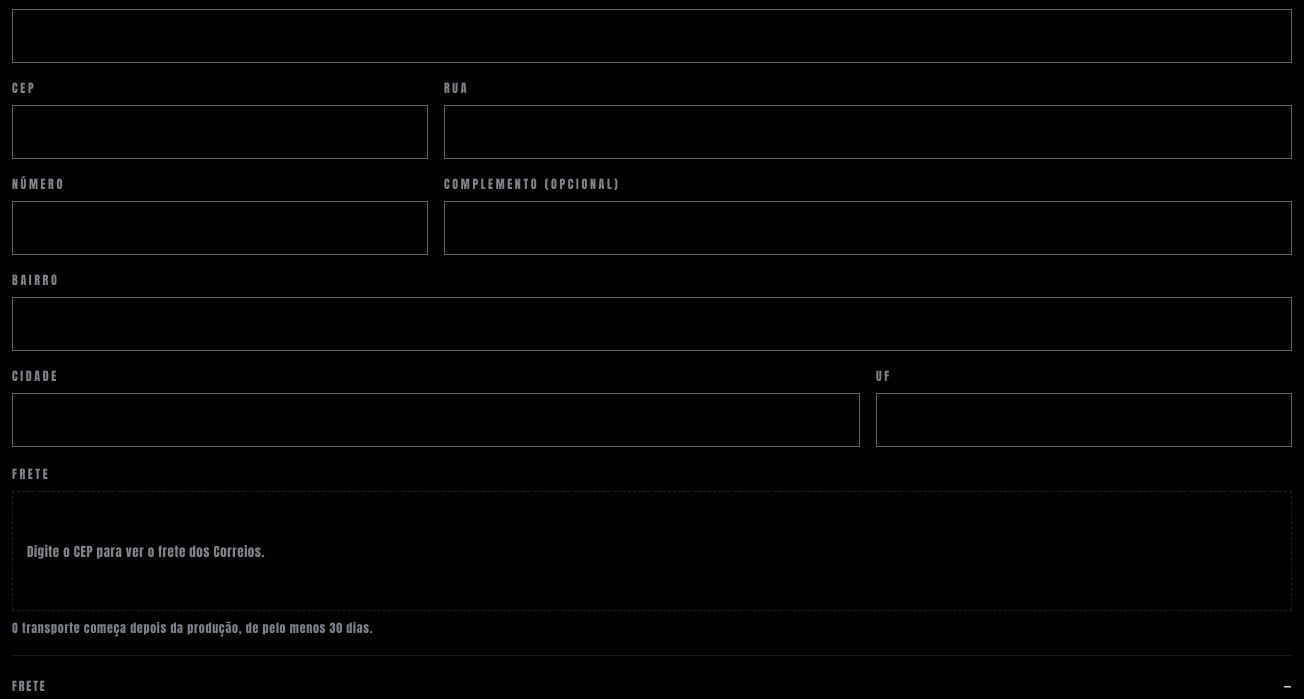
it: frete (#199) › mostra PAC e SEDEX com preco e prazo, e marca o mais barato
Type "01310100" into the field labelled "CEP" at (220, 132), box [12,105,428,159]
(page scrolled)
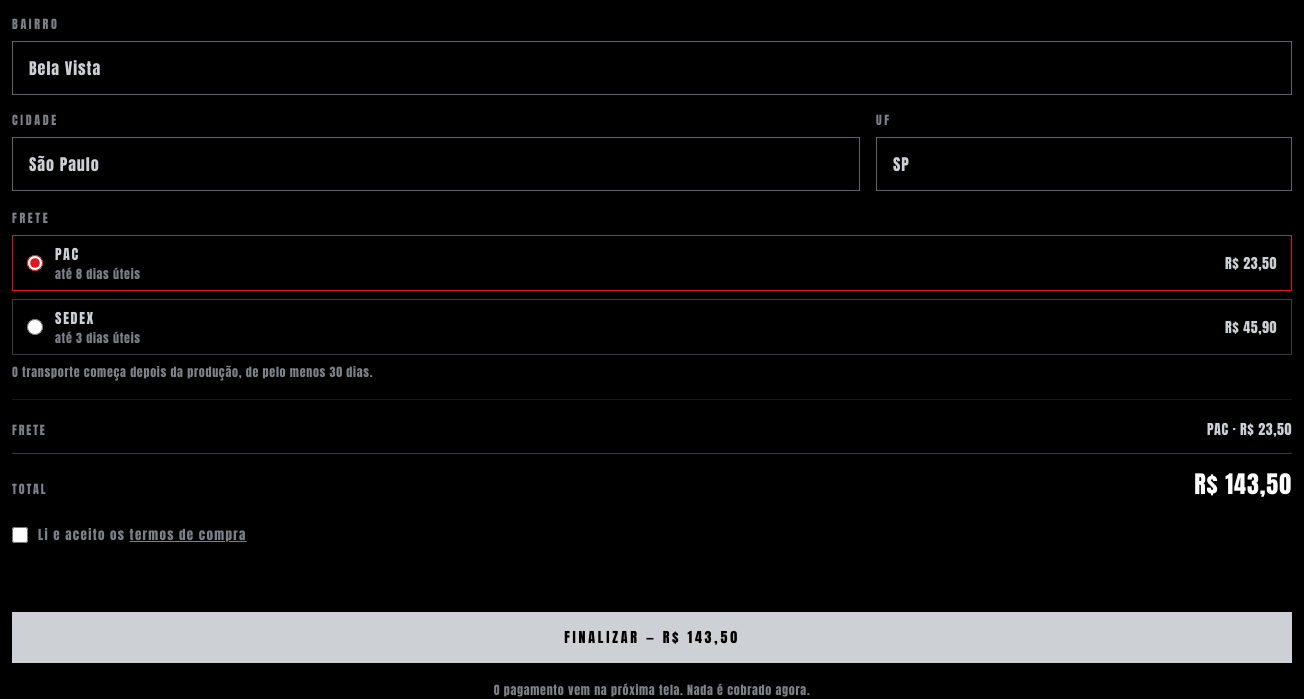
Expected: the radio button labelled "PAC até 8 dias úteis R$ 23,50" is checked, [27,255,43,271]
Expected: the radio button labelled "SEDEX até 3 dias úteis R$ 45,90" is not checked, [27,319,43,335]
Expected: the label "PAC até 8 dias úteis R$ 23,50" is shown, [12,235,1292,291]
